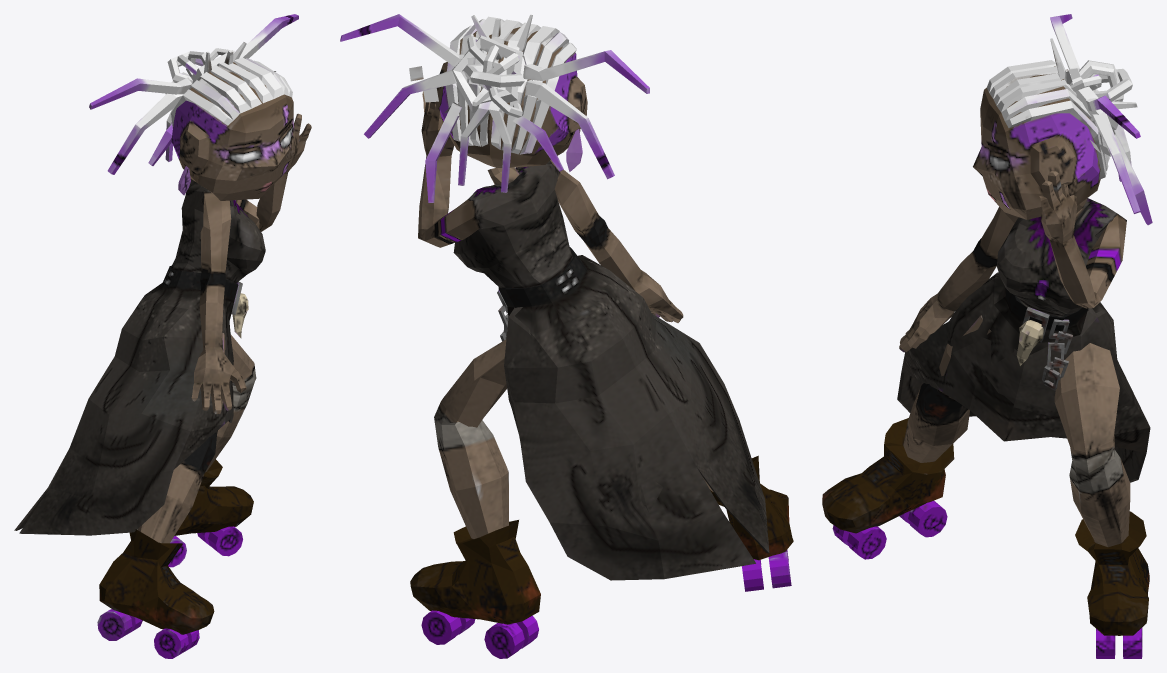
The model's file is bruja_000037.obj.
3 views of the same model, side by side, from view 1: azimuth 30°, elevation 25°; view 2: azimuth 150°, elevation 25°; view 3: azimuth 270°, elevation 25° (orthographic). The views are drawn at different scales.
Parts seen in each view (by area): view 1: Bruja_Plane.001; view 2: Bruja_Plane.001; view 3: Bruja_Plane.001.
Part boxes in pixels (box(x1,y1,x2,y2)): Bruja_Plane.001: box(14, 14, 311, 658); Bruja_Plane.001: box(340, 14, 793, 658); Bruja_Plane.001: box(822, 14, 1152, 658).
Bounding box in the file's own units: 9.97 × 15.44 × 7.76.
